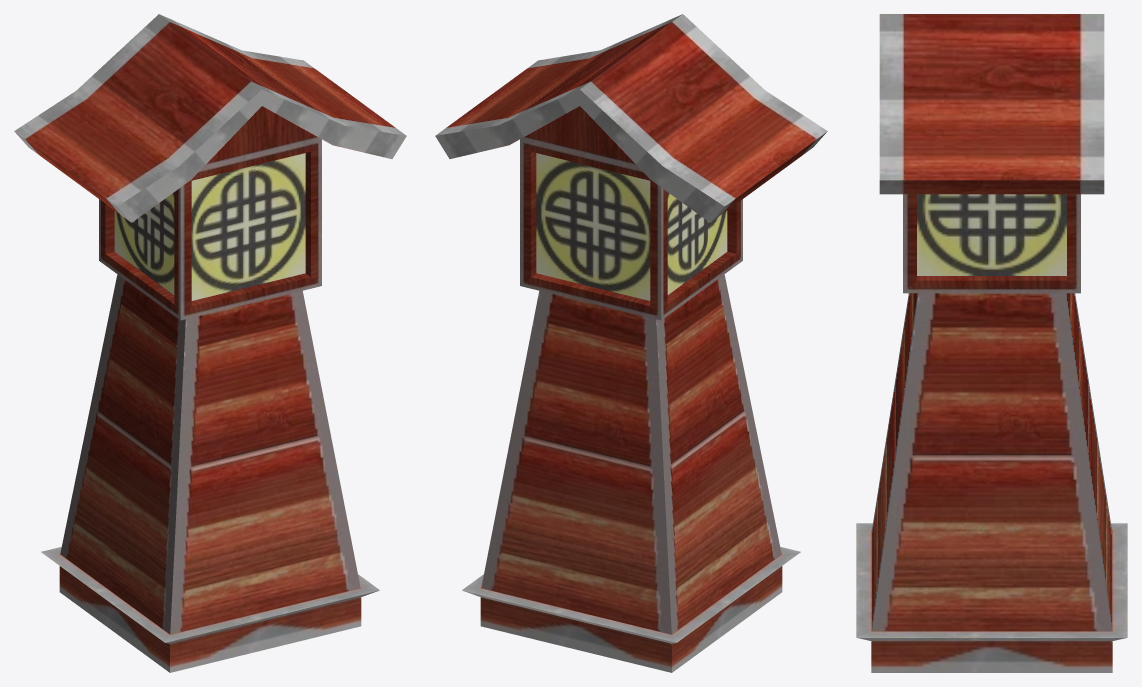
The model's file is shrine-art.glb.
3 renders of one model, left to right at view 1: azimuth 30°, elevation 25°; view 2: azimuth 150°, elevation 25°; view 3: azimuth 270°, elevation 25°, orthographic. The views are drawn at different scales.
Visible parts, largest first — view 1: Shrine_Art; view 2: Shrine_Art; view 3: Shrine_Art.
Part boxes in pixels (box(x1,y1,x2,y2)): Shrine_Art: box(14, 14, 406, 672); Shrine_Art: box(435, 14, 827, 672); Shrine_Art: box(856, 14, 1127, 672).
Size of the model in its own units: 1.94 by 3.56 by 1.44.
Materials: 1 (1 with a texture image).
